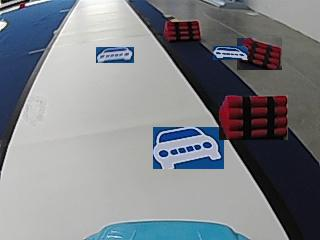bomb: (162, 19, 202, 40)
